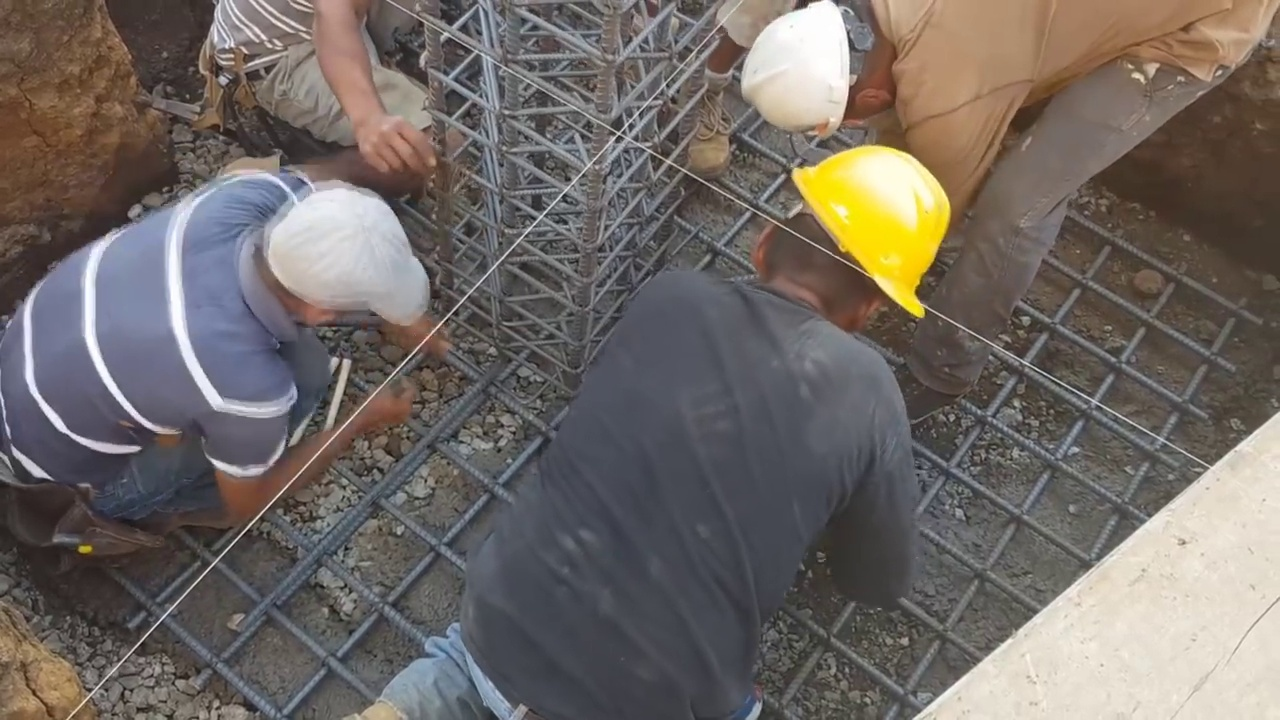helmet: (792, 153, 945, 330), (740, 5, 874, 131)
helmet-off: (244, 188, 440, 359)
helmet-on: (741, 144, 950, 330), (736, 3, 906, 136)
person: (414, 152, 932, 719), (726, 0, 1280, 356), (0, 167, 498, 539), (181, 0, 457, 232)
